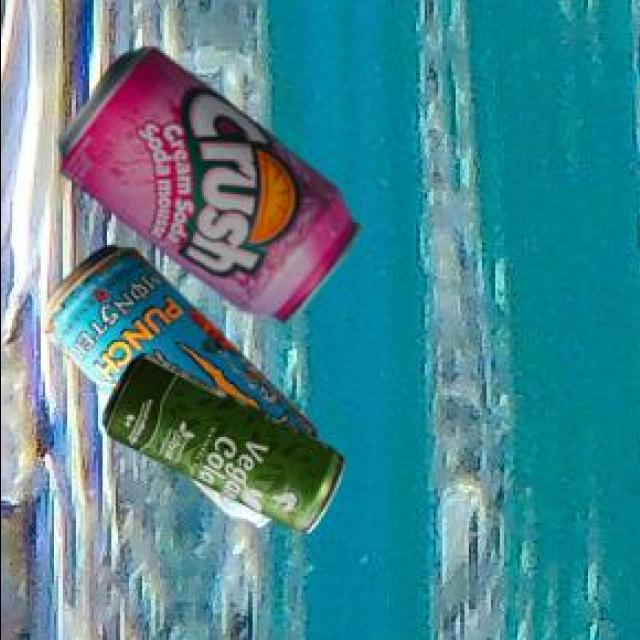logam: (54, 50, 359, 328), (41, 248, 312, 531), (98, 356, 341, 535)
